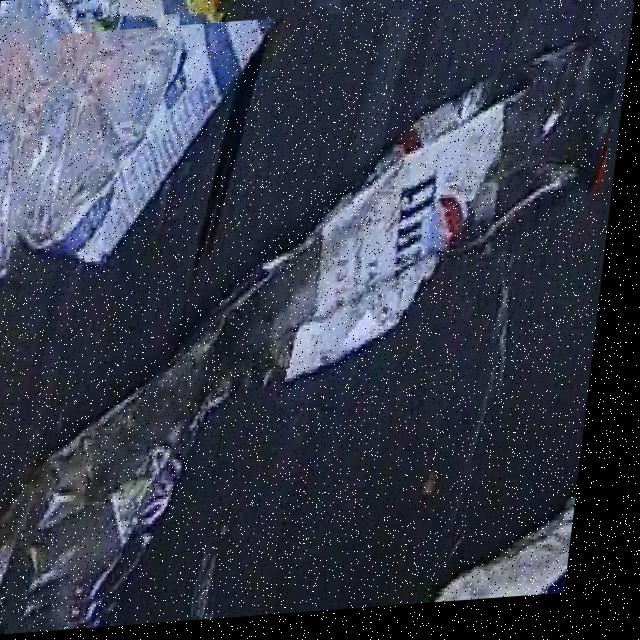plasticbottle: (0, 6, 624, 609)
